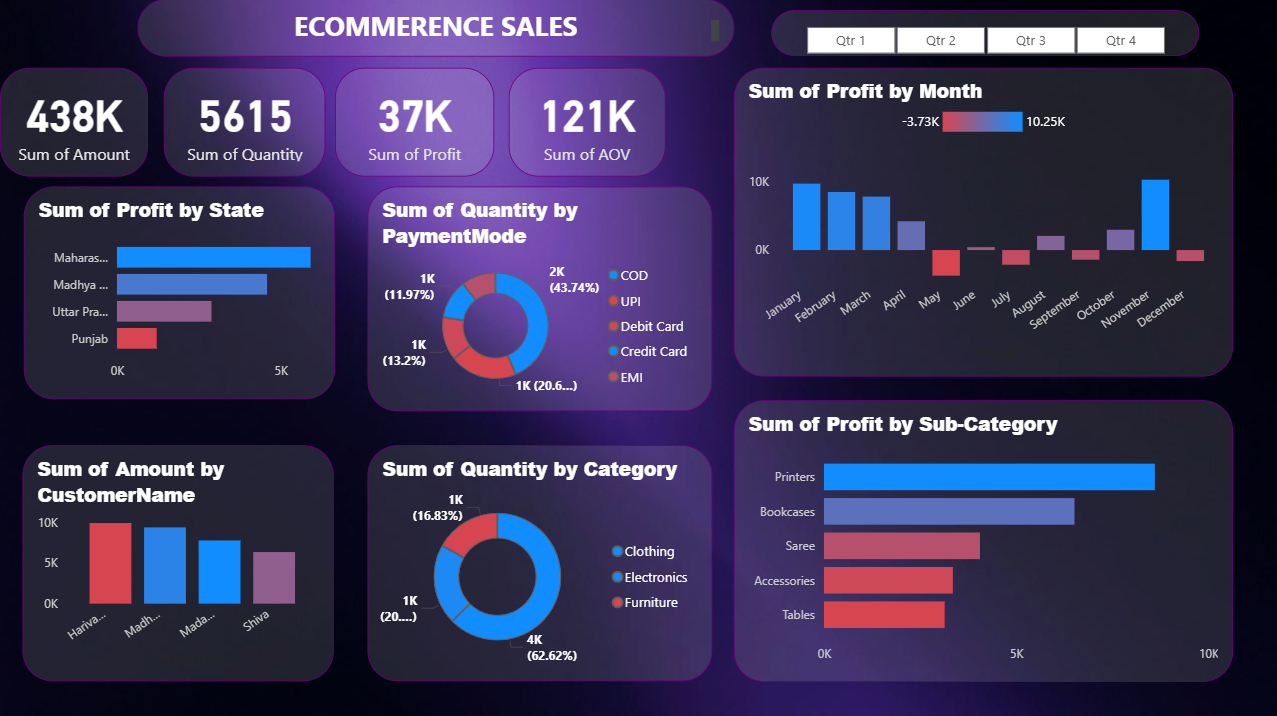

Layout of this report page (visuals, bound fields, positions):
{"tool":"powerbi","page":{"name":"Page 1","canvas":[1280,720],"ordinal":0},"visuals":[{"type":"textbox","box":[137.2,0,596.9,57.6],"z":0},{"type":"columnChart","fields":{"Y":["Sum(Details (2).Profit)"],"Category":["Orders (2).Order Date.Variation.Date Hierarchy.Month"]},"box":[734.1,68.6,499.5,308.7],"z":1000},{"type":"barChart","fields":{"Category":["Details (2).Sub-Category"],"Y":["Sum(Details (2).Profit)"]},"box":[734.1,400.7,499.5,281.3],"z":2000},{"type":"donutChart","fields":{"Category":["Details (2).Category"],"Y":["Sum(Details (2).Quantity)"]},"box":[367.8,446,344.4,236],"z":2001},{"type":"donutChart","fields":{"Y":["Sum(Details (2).Quantity)"],"Category":["Details (2).PaymentMode"]},"box":[367.8,188,344.4,225],"z":2002},{"type":"card","fields":{"Values":["Sum(Details (2).Amount)"]},"box":[0,68.6,148.2,108.4],"z":2003},{"type":"card","fields":{"Values":["Sum(Details (2).Quantity)"]},"box":[163.3,68.6,161.9,108.4],"z":2004},{"type":"card","fields":{"Values":["Sum(Details (2).Profit)"]},"box":[334.8,68.6,159.2,108.4],"z":2005},{"type":"card","fields":{"Values":["Sum(Details (2).AOV)"]},"box":[509.1,68.6,156.4,108.4],"z":2006},{"type":"barChart","fields":{"Category":["Orders (2).State"],"Y":["Sum(Details (2).Profit)"]},"box":[23.3,188,311.5,212.7],"z":2007},{"type":"columnChart","fields":{"Category":["Orders (2).CustomerName"],"Y":["Sum(Details (2).Amount)"]},"box":[23,446,311,236],"z":2008},{"type":"slicer","fields":{"Values":["Orders (2).Order Date.Variation.Date Hierarchy.Quarter"]},"box":[771.1,11.4,427.6,45.6],"z":2009}]}

Visuals, with their boxes in screenshot pixels (x1, y1, x2, y2), scaled from the page's 1280x720 canvas onto the 1277x716 screenshot:
textbox: x1=137 y1=0 x2=732 y2=57
columnChart - Sum(Details (2).Profit) x Orders (2).Order Date.Variation.Date Hierarchy.Month: x1=732 y1=68 x2=1231 y2=375
barChart - Details (2).Sub-Category x Sum(Details (2).Profit): x1=732 y1=398 x2=1231 y2=678
donutChart - Details (2).Category x Sum(Details (2).Quantity): x1=367 y1=444 x2=711 y2=678
donutChart - Sum(Details (2).Quantity) x Details (2).PaymentMode: x1=367 y1=187 x2=711 y2=411
card - Sum(Details (2).Amount): x1=0 y1=68 x2=148 y2=176
card - Sum(Details (2).Quantity): x1=163 y1=68 x2=324 y2=176
card - Sum(Details (2).Profit): x1=334 y1=68 x2=493 y2=176
card - Sum(Details (2).AOV): x1=508 y1=68 x2=664 y2=176
barChart - Orders (2).State x Sum(Details (2).Profit): x1=23 y1=187 x2=334 y2=398
columnChart - Orders (2).CustomerName x Sum(Details (2).Amount): x1=23 y1=444 x2=333 y2=678
slicer - Orders (2).Order Date.Variation.Date Hierarchy.Quarter: x1=769 y1=11 x2=1196 y2=57
